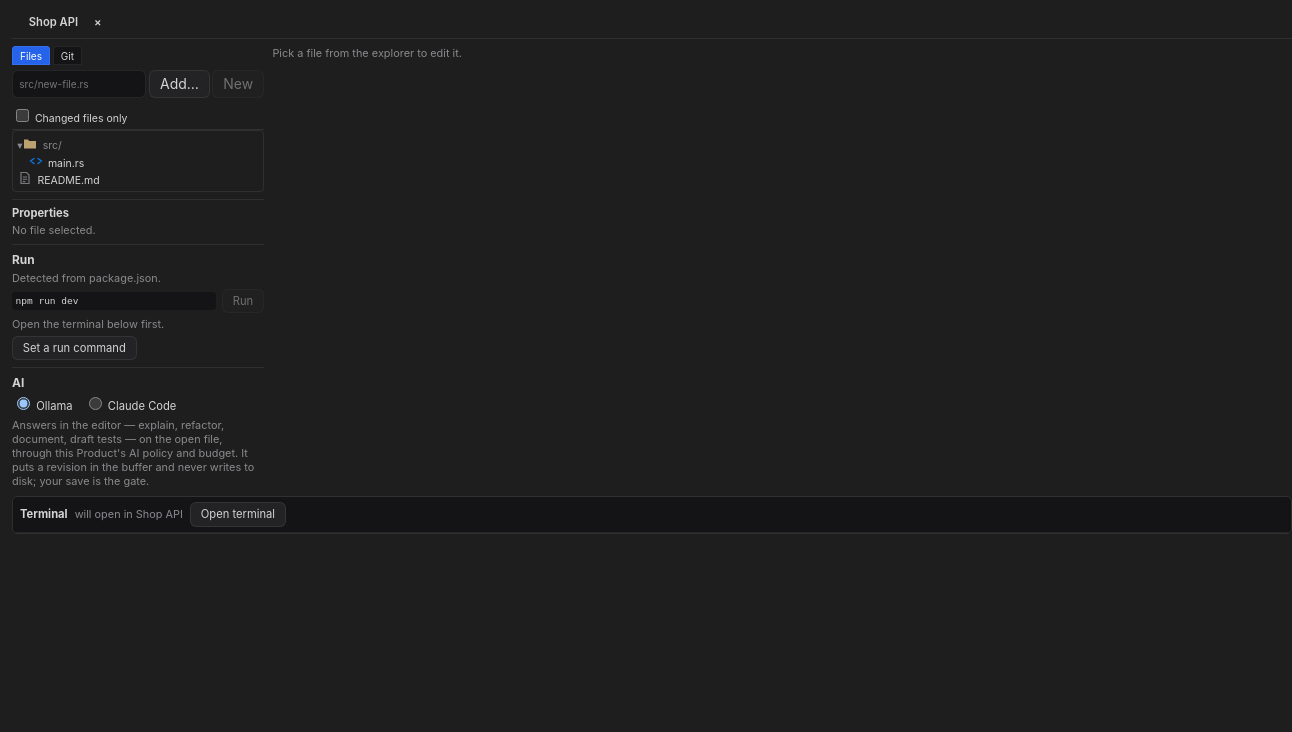
Test case: CodeEditor › surfaces a refused file creation
In the field named "New file path": (79, 84) [12,70,146,98], type "src/main.rs"
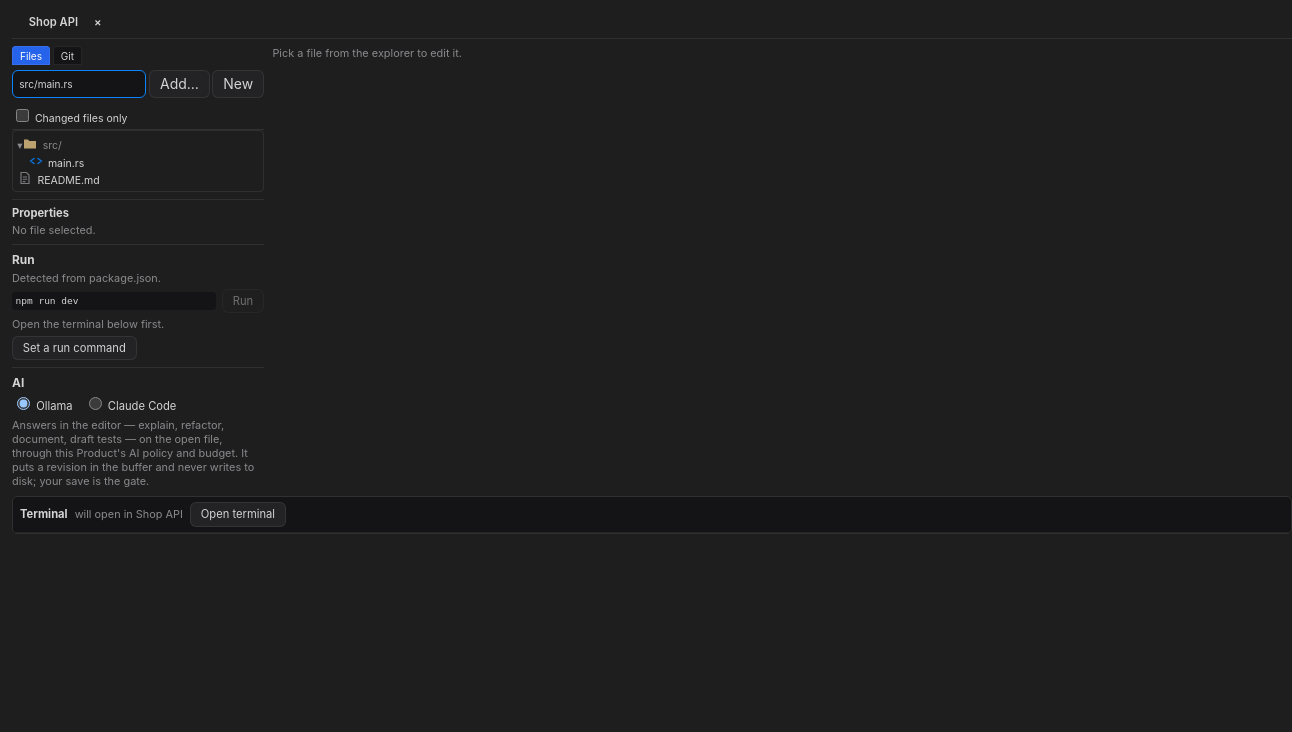
Click the button with aria-label "Create file": (238, 84) [212,70,264,98]
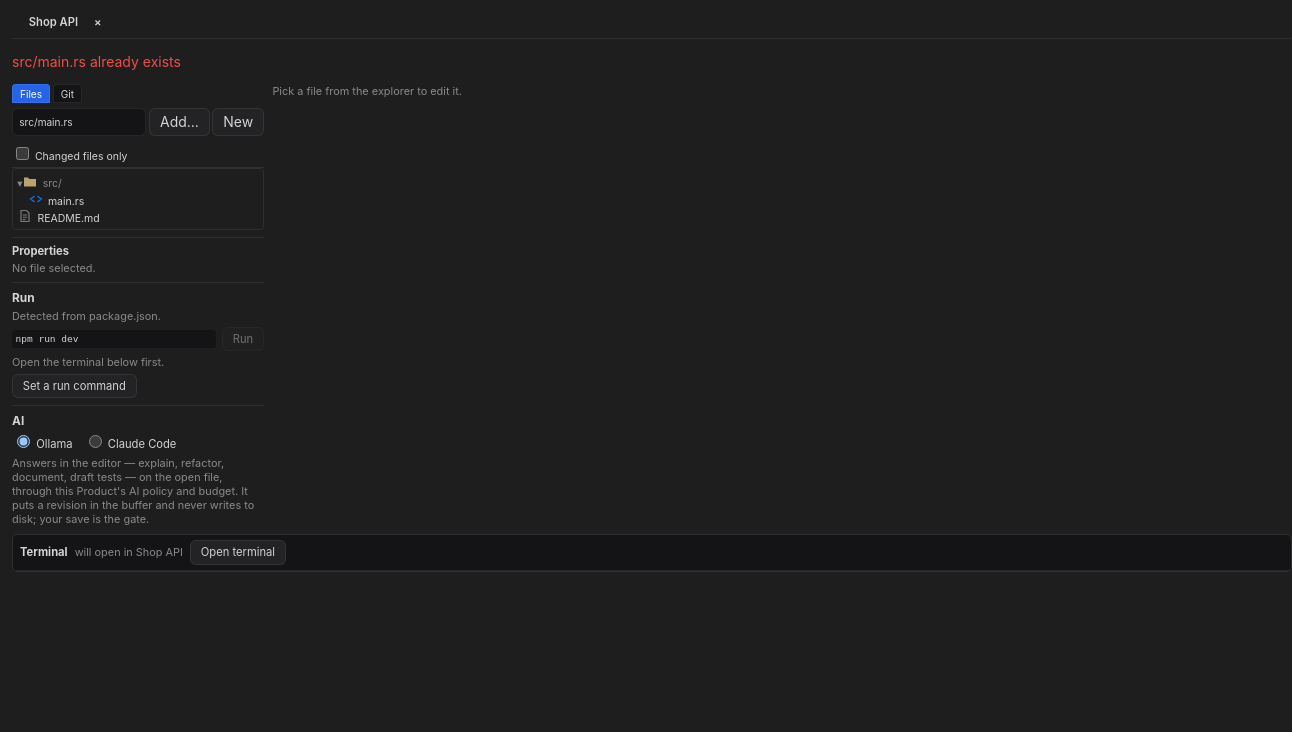
expect the message shows "already exists": met, box [12,53,181,70]
